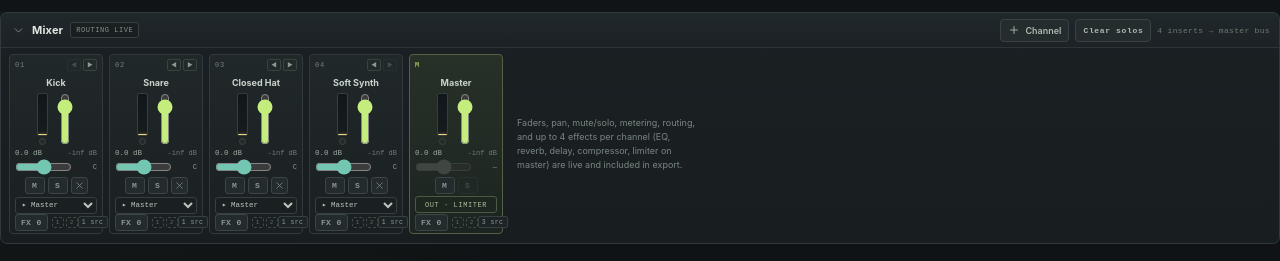
Test: effects rack › adds an effect with a stable id and its defaults
The width and height of the screenshot is (1280, 261).
Click the button "FX 0" below "01": [31, 222] box [15,214,48,230]
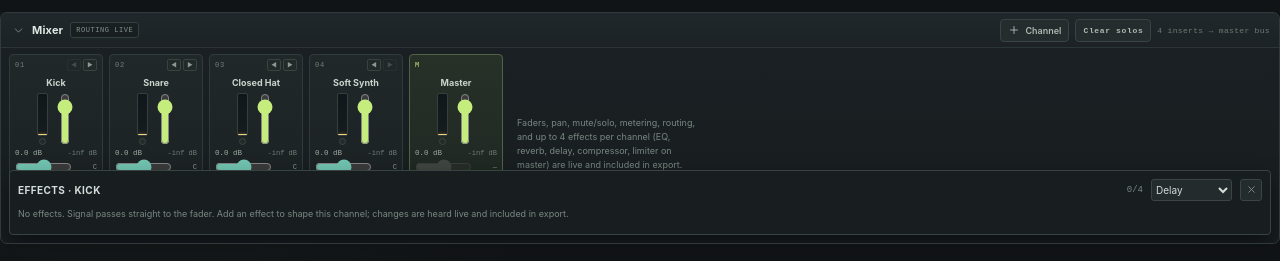
Select "Delay" in the dropdown named "Add effect to Kick": [1192, 190] box [1151,178,1232,200]
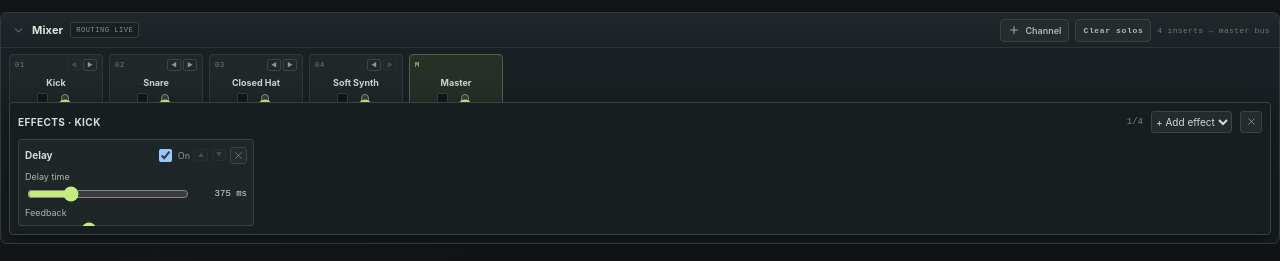
Expected: the list item shows "Delay", [25,149,52,161]
